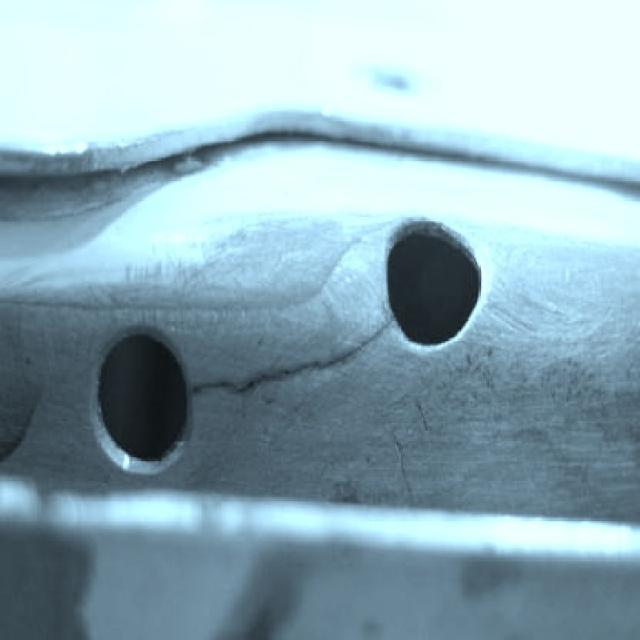crack: (349, 316, 394, 358), (266, 359, 351, 378), (197, 381, 232, 398), (232, 379, 267, 395)
